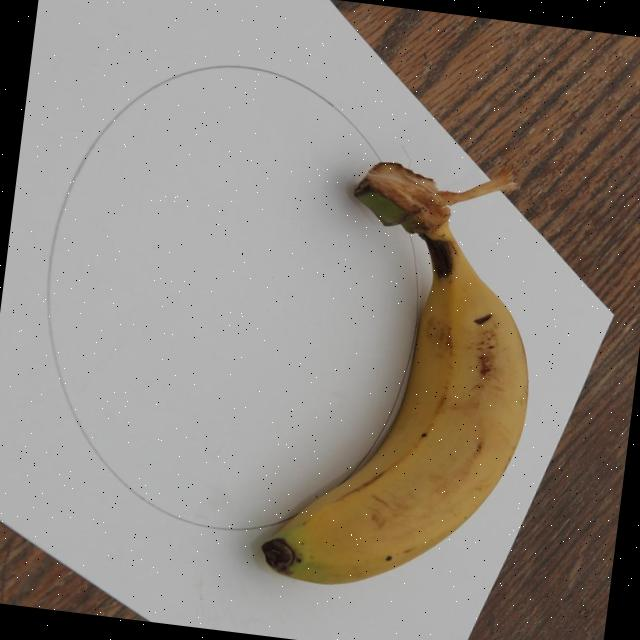banana: (256, 161, 527, 585)
